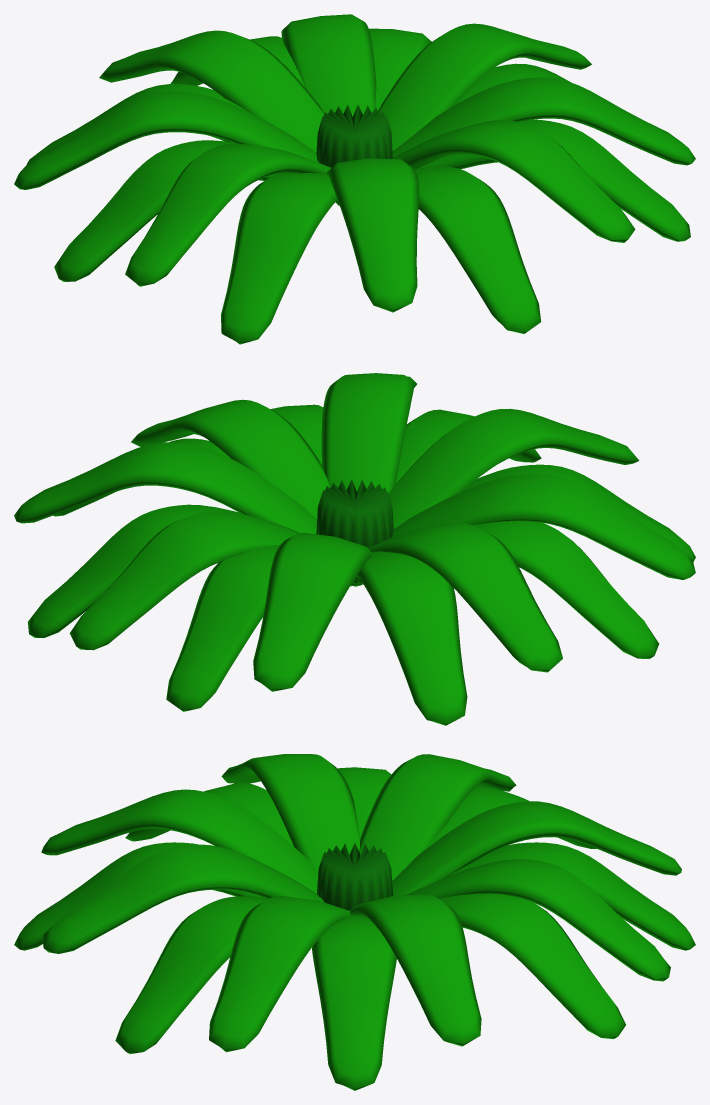
Rendered from plant.fbx.
3 renders of one model, top to bottom at view 1: azimuth 30°, elevation 25°; view 2: azimuth 150°, elevation 25°; view 3: azimuth 270°, elevation 25°, orthographic.
Visible parts, largest first — view 1: pCube17; view 2: pCube17; view 3: pCube17.
Boxes of the visible parts, x1,y1,x2,y2 form: pCube17: (14, 14, 695, 344); pCube17: (14, 373, 695, 725); pCube17: (14, 754, 695, 1090).
Bounding box in the file's own units: 47.86 × 9.62 × 47.86.
